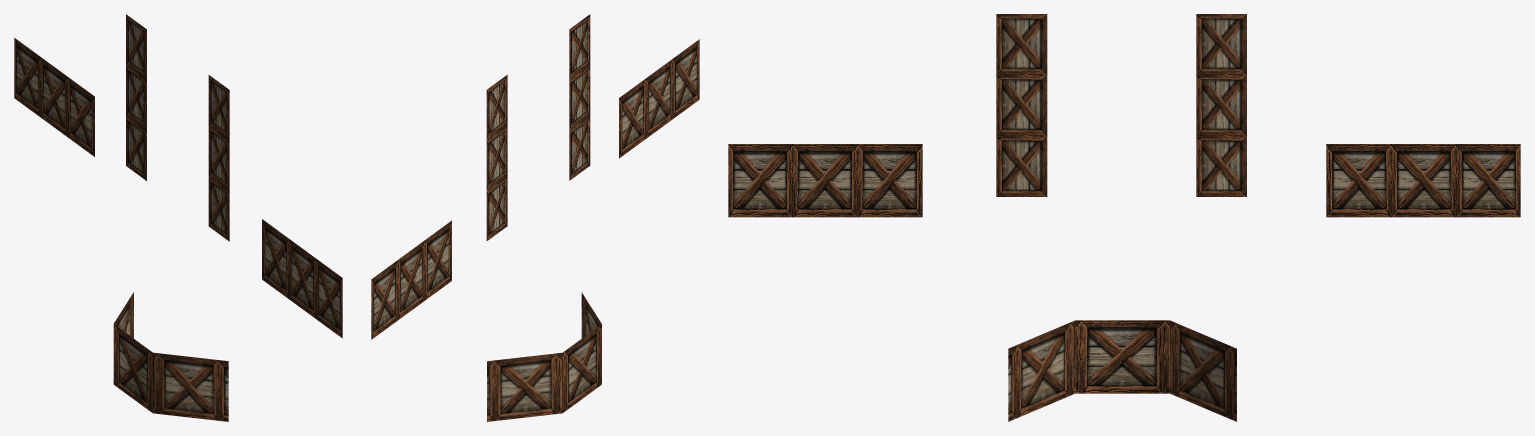
The model's file is LAKETOWN_EXTERIOR_PS_LT_PANELS2291.fbx.
The picture shows the model from 3 angles, left to right: view 1: azimuth 30°, elevation 25°; view 2: azimuth 150°, elevation 25°; view 3: azimuth 270°, elevation 25°; orthographic projection. The views are drawn at different scales.
Visible parts, largest first — view 1: LAKETOWN_EXTERIOR_PS_LT_PANELS2291; view 2: LAKETOWN_EXTERIOR_PS_LT_PANELS2291; view 3: LAKETOWN_EXTERIOR_PS_LT_PANELS2291.
Part boxes in pixels (left/top/right/bottom): LAKETOWN_EXTERIOR_PS_LT_PANELS2291: left=14, top=14, right=342, bottom=421; LAKETOWN_EXTERIOR_PS_LT_PANELS2291: left=371, top=14, right=699, bottom=421; LAKETOWN_EXTERIOR_PS_LT_PANELS2291: left=728, top=14, right=1520, bottom=421.
Bounding box in the file's own units: 8496 × 56775 × 100461.
1 material, 1 textured.
